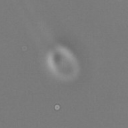normal: (14, 1, 56, 49)
